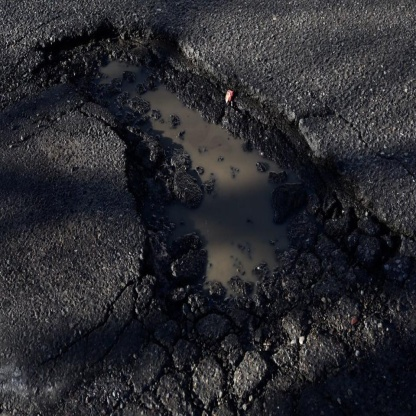pothole: (16, 12, 409, 378)
